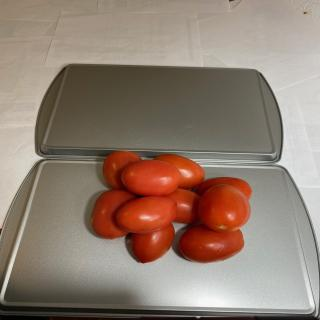Chilli: (90, 150, 252, 264)
Tomato: (179, 224, 244, 264), (198, 184, 251, 233), (90, 189, 137, 240), (116, 196, 177, 234), (120, 160, 182, 197), (153, 154, 205, 189), (130, 224, 175, 264), (102, 150, 142, 190), (163, 188, 201, 224), (196, 177, 252, 200)
